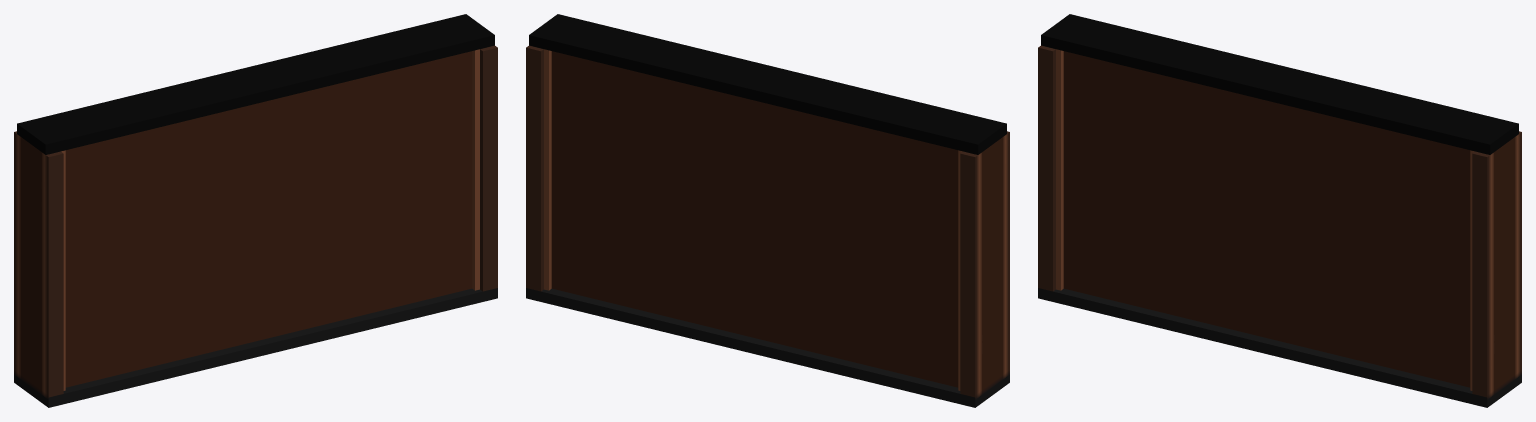
File: Wall-Wood-Model-01.fbx
The picture shows the model from 3 angles, left to right: view 1: azimuth 30°, elevation 25°; view 2: azimuth 150°, elevation 25°; view 3: azimuth 330°, elevation 25°; orthographic projection.
Visible parts, largest first — view 1: Wall-Wood-Model-01; view 2: Wall-Wood-Model-01; view 3: Wall-Wood-Model-01.
Boxes of the visible parts, x1=… form: Wall-Wood-Model-01: x1=14, y1=14, x2=497, y2=407; Wall-Wood-Model-01: x1=526, y1=14, x2=1009, y2=407; Wall-Wood-Model-01: x1=1038, y1=14, x2=1521, y2=407.
Bounding box in the file's own units: 90 × 50 × 12.
1 material, 1 textured.
